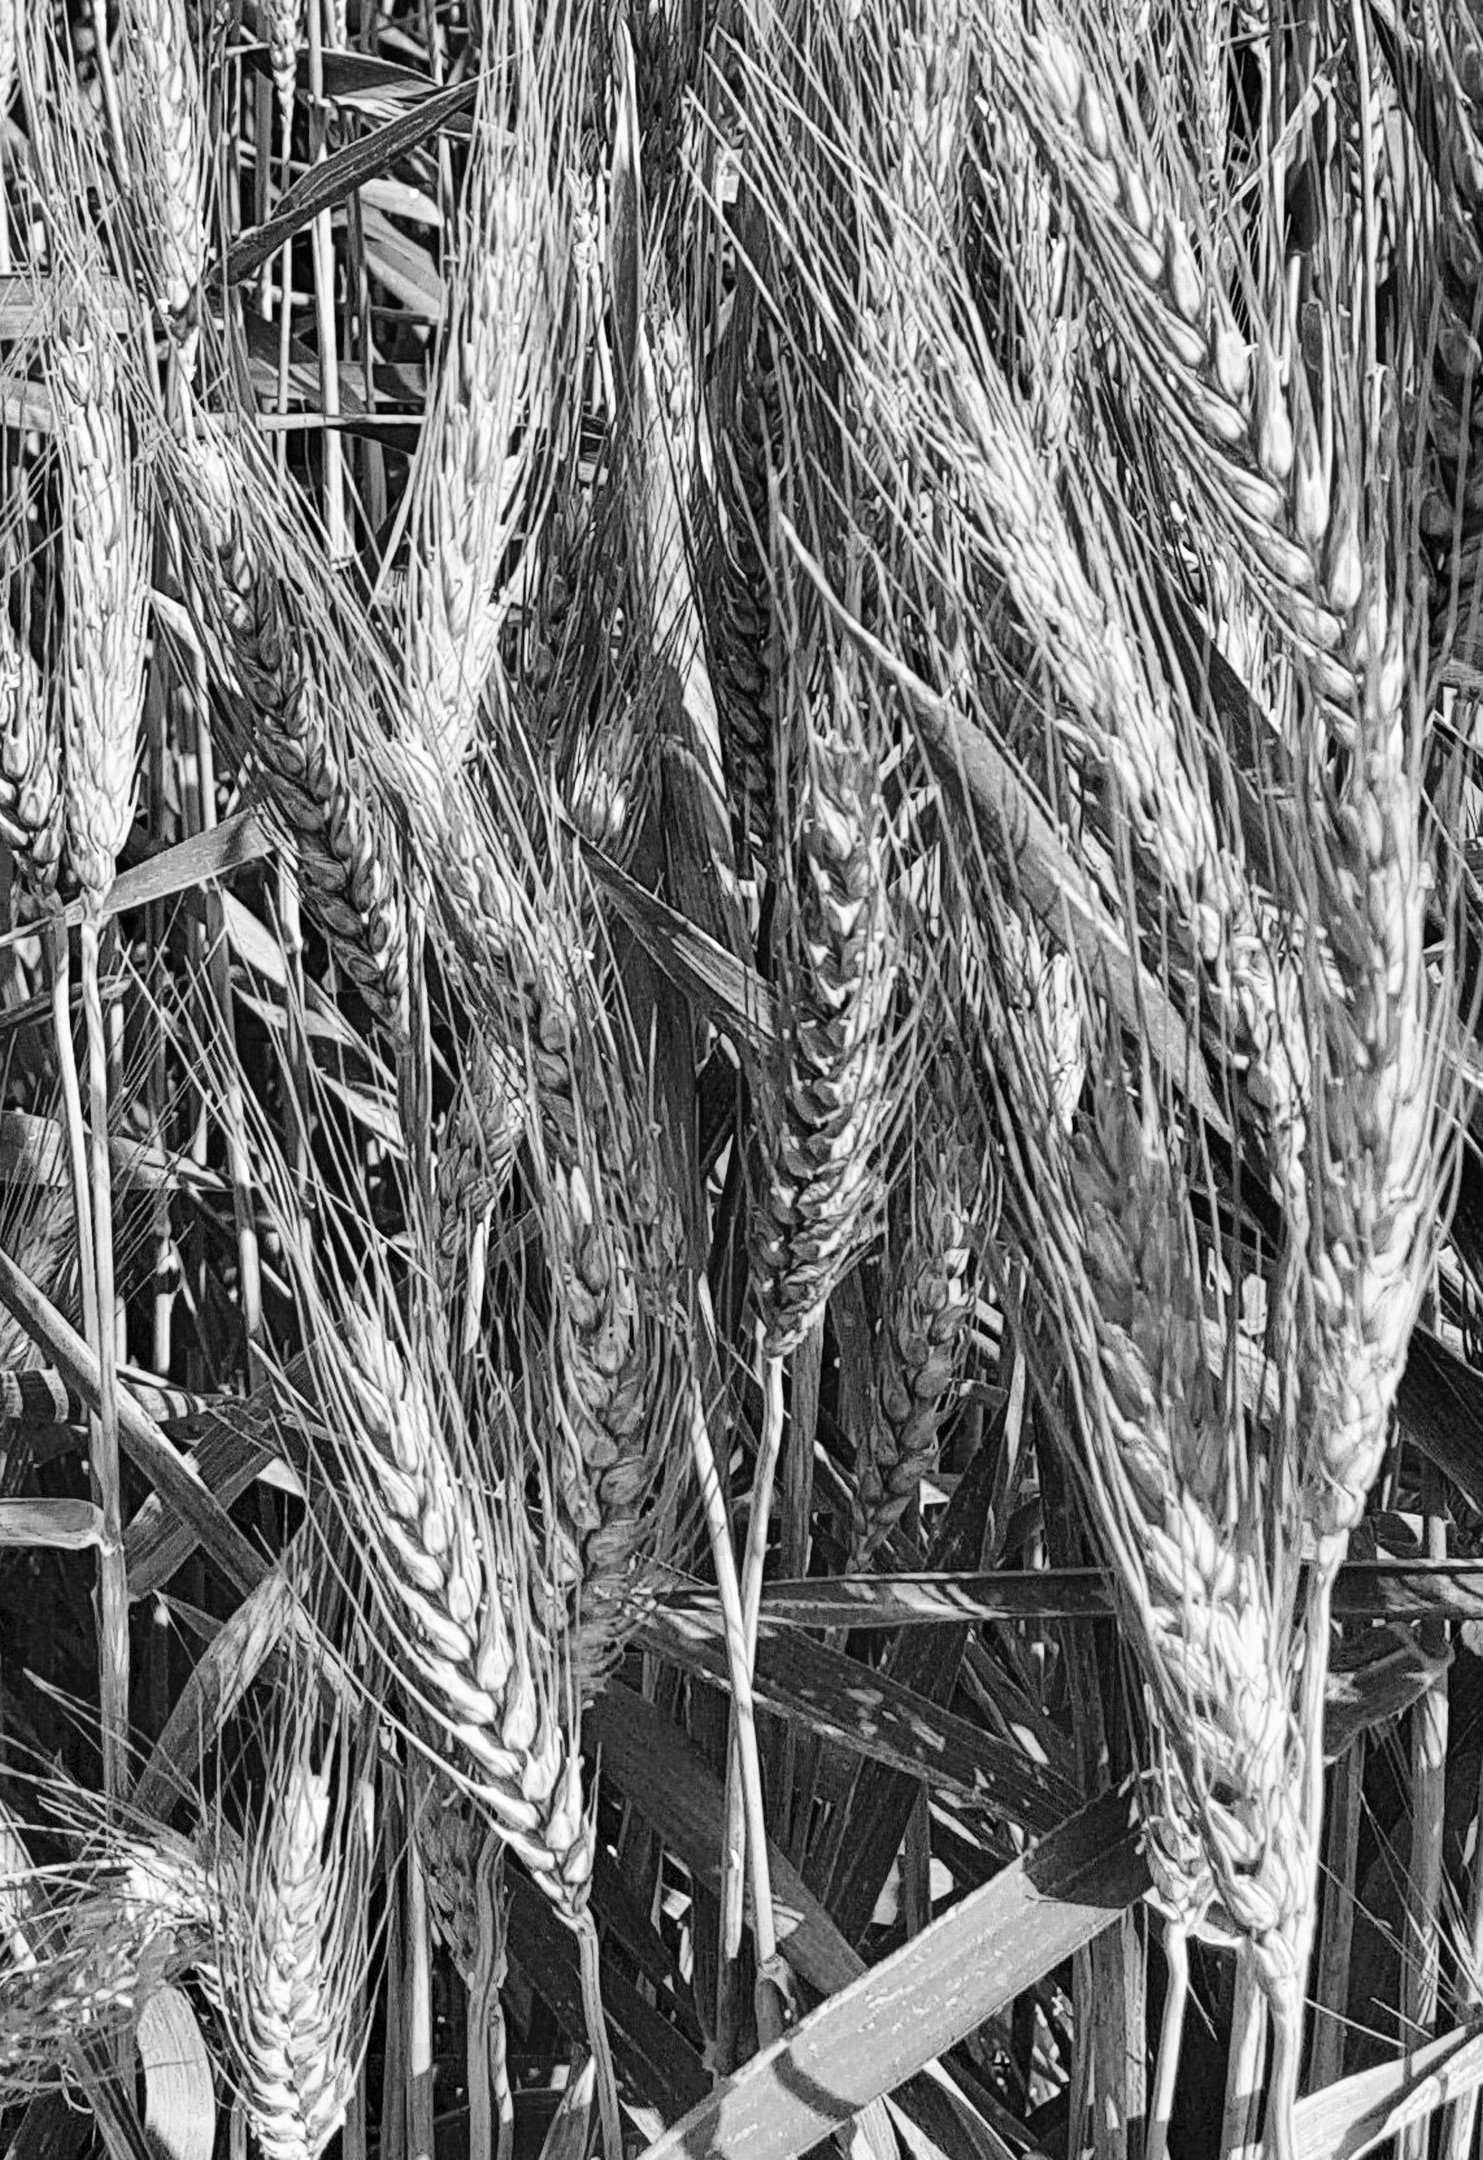Healthy Wheat: (1006, 49, 1447, 675), (307, 1288, 640, 1891), (755, 739, 951, 1348)
